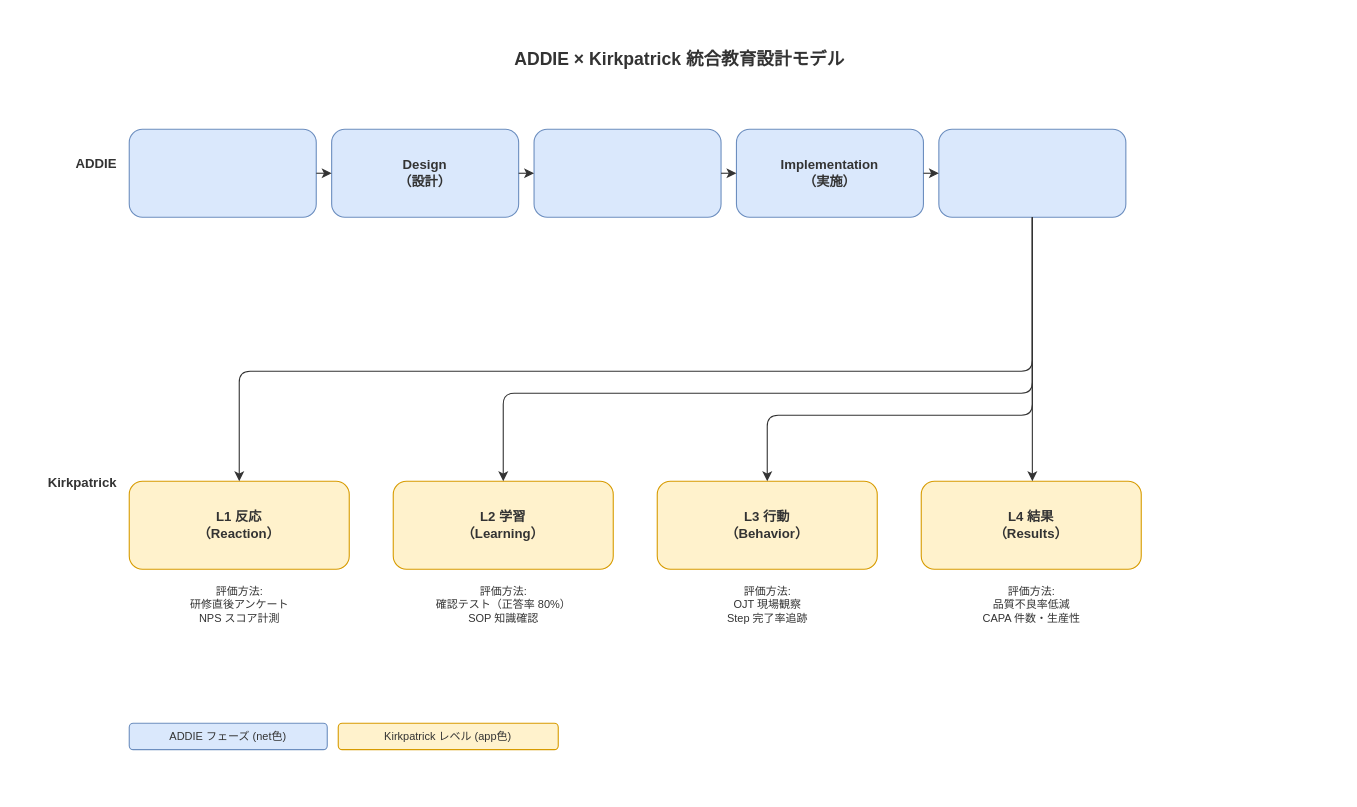
Some shapes in this 1357 by 807 pixel diagram are drawn without their labels. Here are the shapes that lost their labels. From the top down, the centre of each, then its label:
At (x=222, y=172): "Analysis （分析）".
At (x=627, y=172): "Development （開発）".
At (x=1032, y=172): "Evaluation （評価）".
